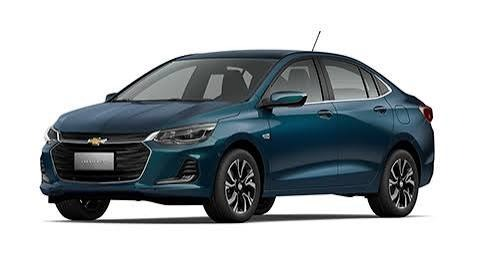car: (45, 50, 424, 226)
